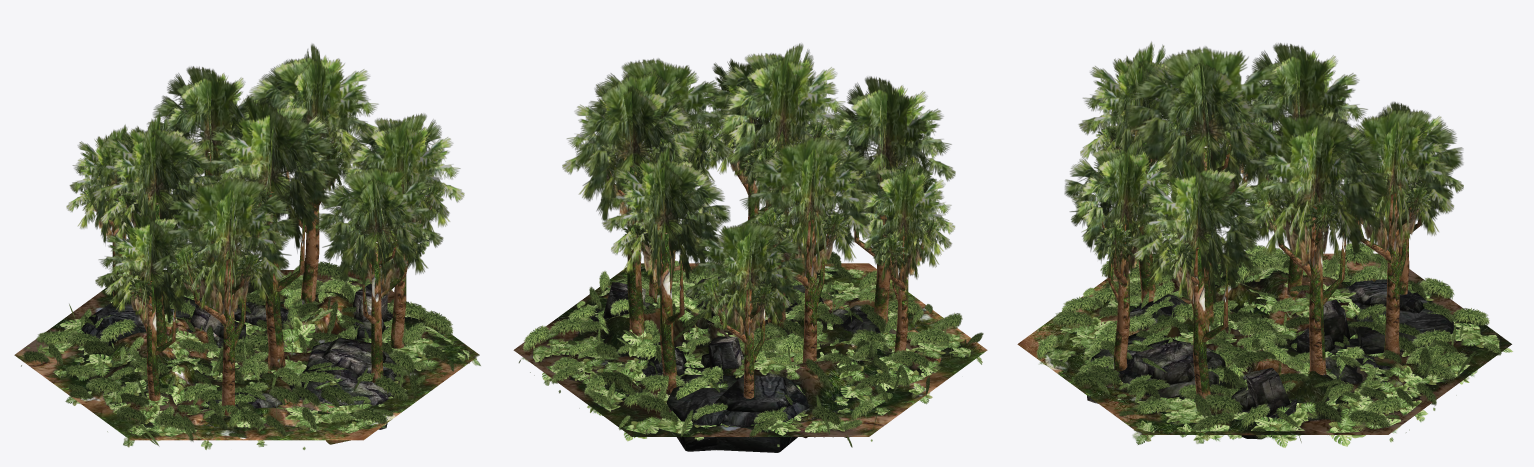
Rendered from tropical_rainforest_2_0_baked.glb.
3 views of the same model, side by side, from view 1: azimuth 30°, elevation 25°; view 2: azimuth 150°, elevation 25°; view 3: azimuth 270°, elevation 25° (orthographic). The views are drawn at different scales.
Visible parts, largest first — view 1: tropical_rainforest_2_0; view 2: tropical_rainforest_2_0; view 3: tropical_rainforest_2_0.
Boxes of the visible parts, box(x1,y1,x2,y2) form: tropical_rainforest_2_0: box(14, 44, 480, 449); tropical_rainforest_2_0: box(513, 43, 987, 452); tropical_rainforest_2_0: box(1017, 41, 1512, 447).
Bounding box in the file's own units: 1.84 × 1.46 × 2.03.
5 materials, 5 textured.
